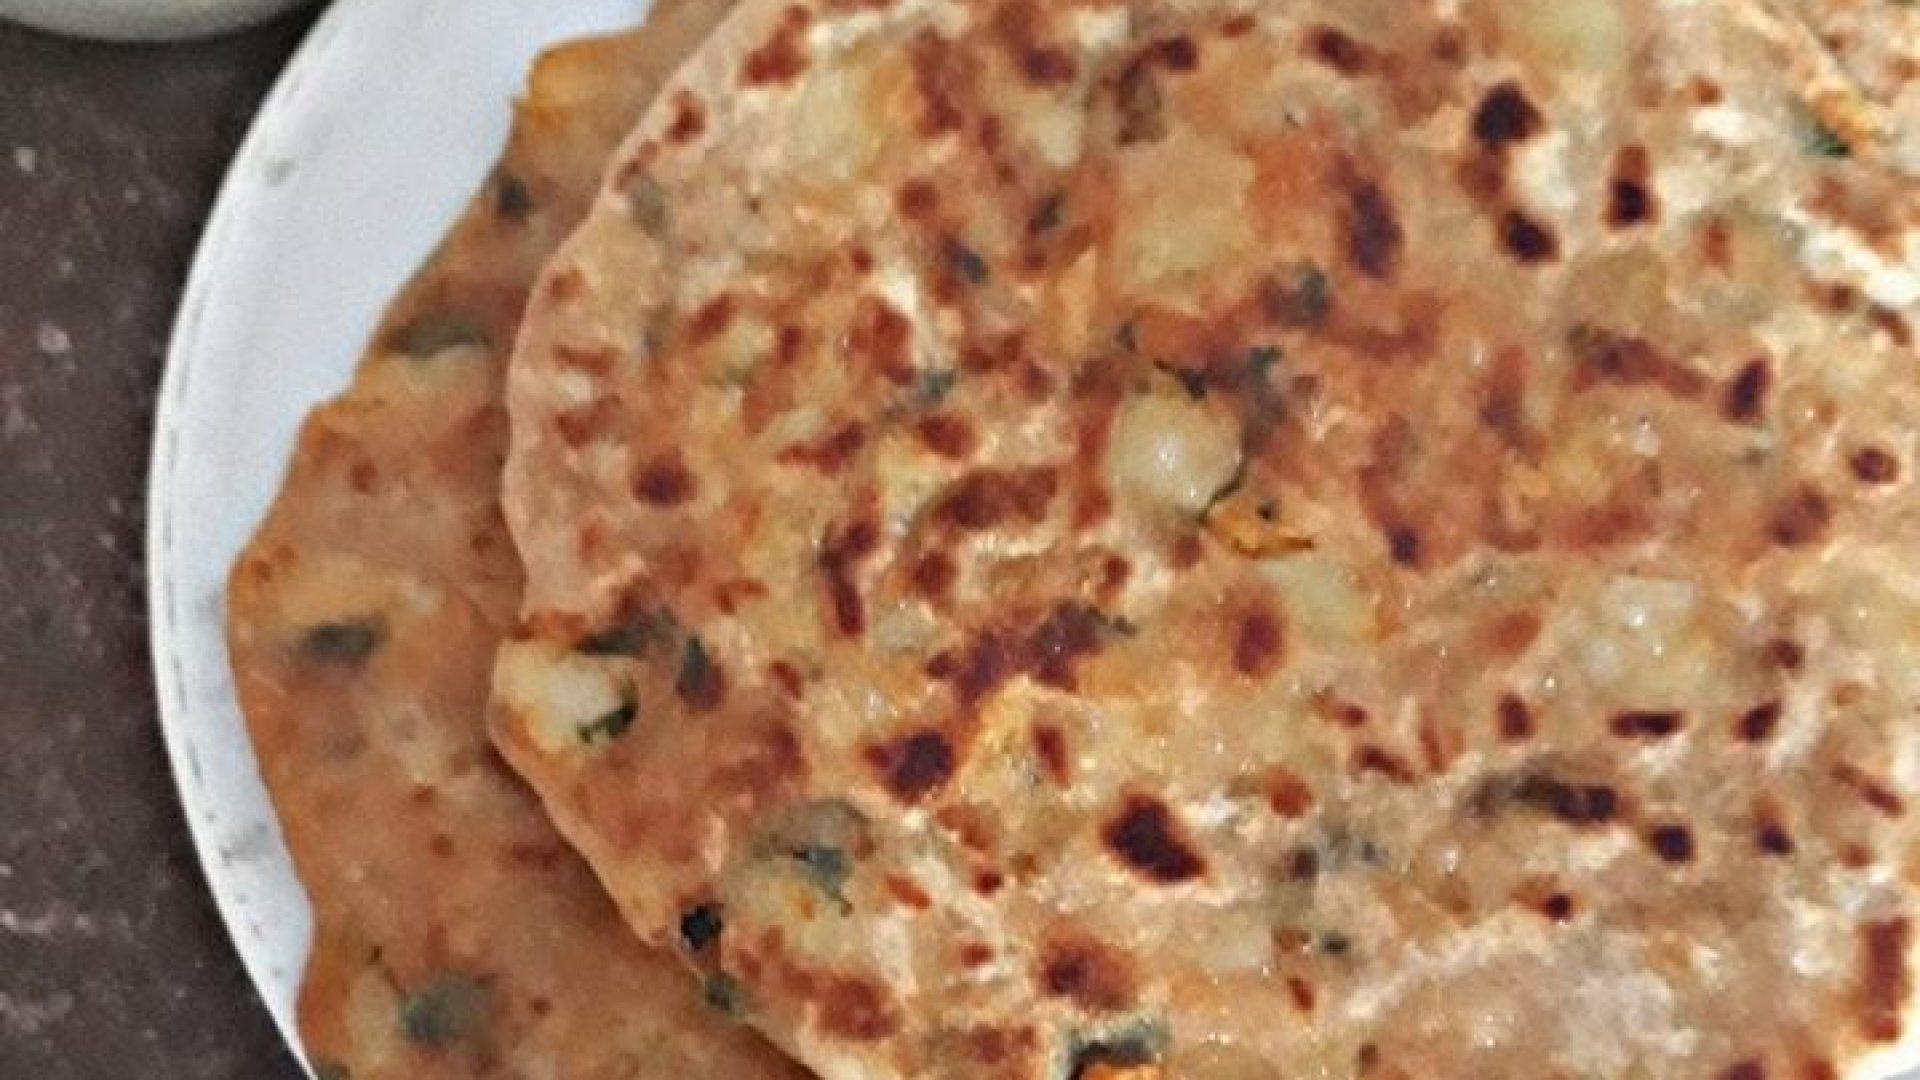aloo_paratha: (218, 4, 1920, 1073)
